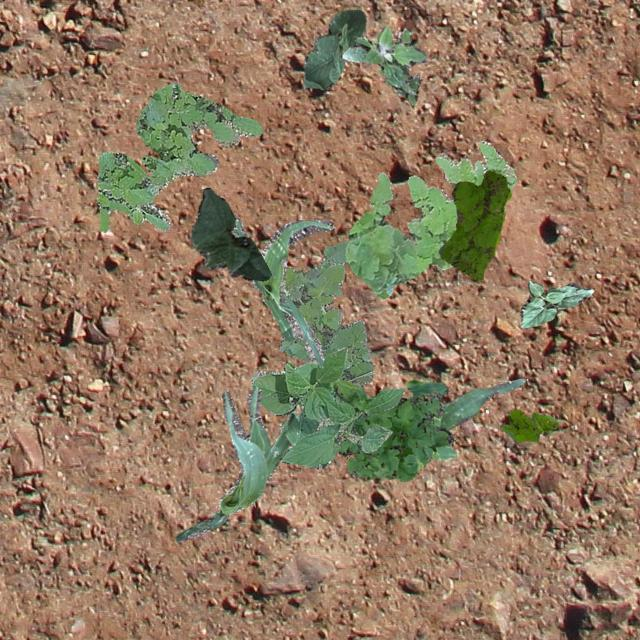crop: (175, 386, 298, 542), (250, 347, 404, 468), (232, 214, 332, 366), (428, 378, 522, 458), (190, 188, 270, 280), (304, 8, 366, 88), (520, 280, 592, 328)
weed: (344, 140, 516, 298), (95, 82, 262, 232), (262, 240, 374, 394), (332, 378, 452, 481), (438, 170, 510, 280), (342, 26, 426, 104), (498, 408, 558, 442)
